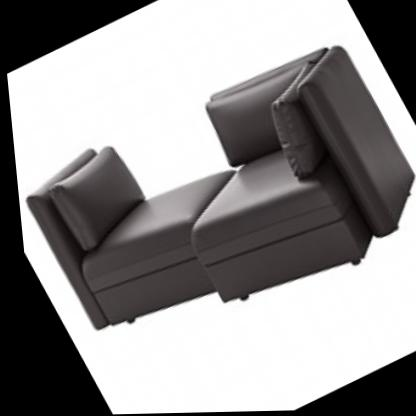Sofa: (1, 6, 416, 387)
